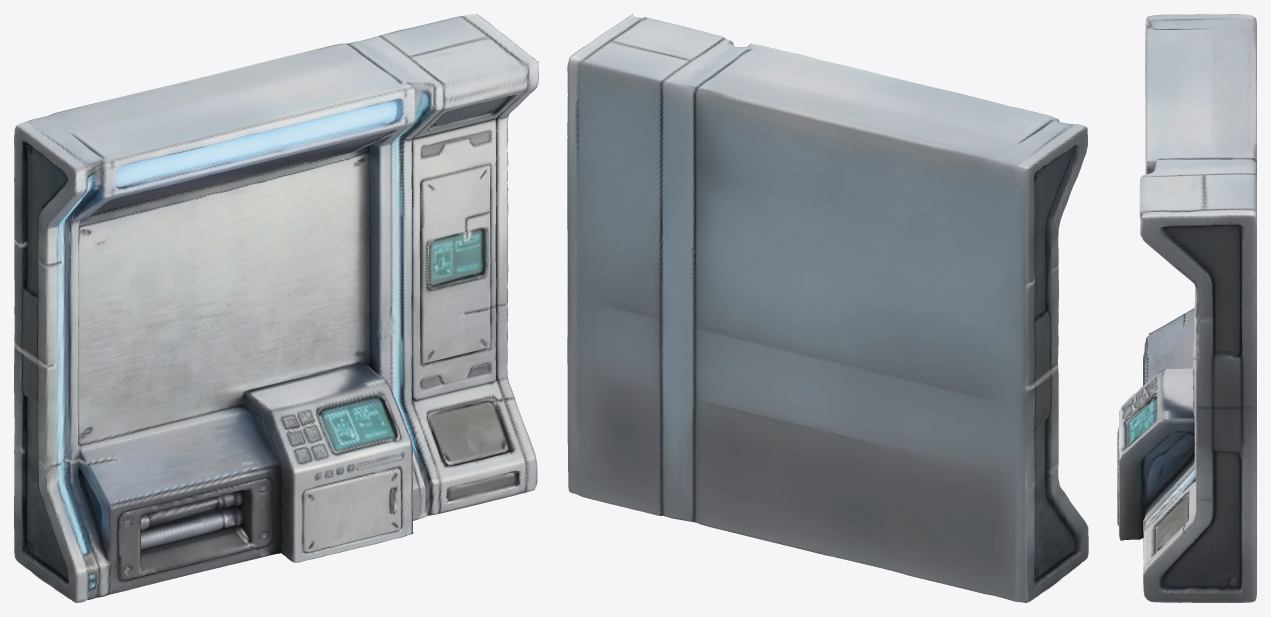
Rendered from bio_wall_medium.fbx.
The picture shows the model from 3 angles, left to right: view 1: azimuth 30°, elevation 25°; view 2: azimuth 150°, elevation 25°; view 3: azimuth 270°, elevation 25°; orthographic projection. The views are drawn at different scales.
Visible parts, largest first — view 1: model; view 2: model; view 3: model.
Boxes of the visible parts, x1,y1,x2,y2 form: model: [14, 14, 538, 602]; model: [567, 14, 1088, 602]; model: [1117, 14, 1256, 602].
Size of the model in its own units: 190 by 172 by 55.91.
